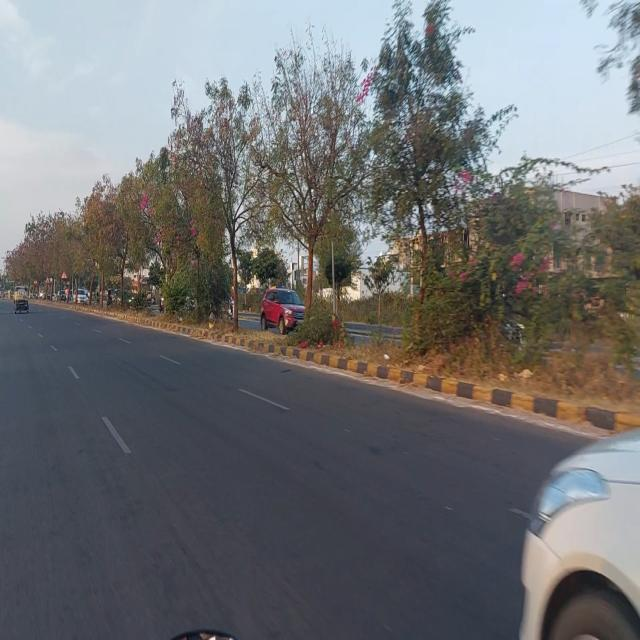bien_cam: (60, 268, 68, 280), (44, 274, 51, 286)
